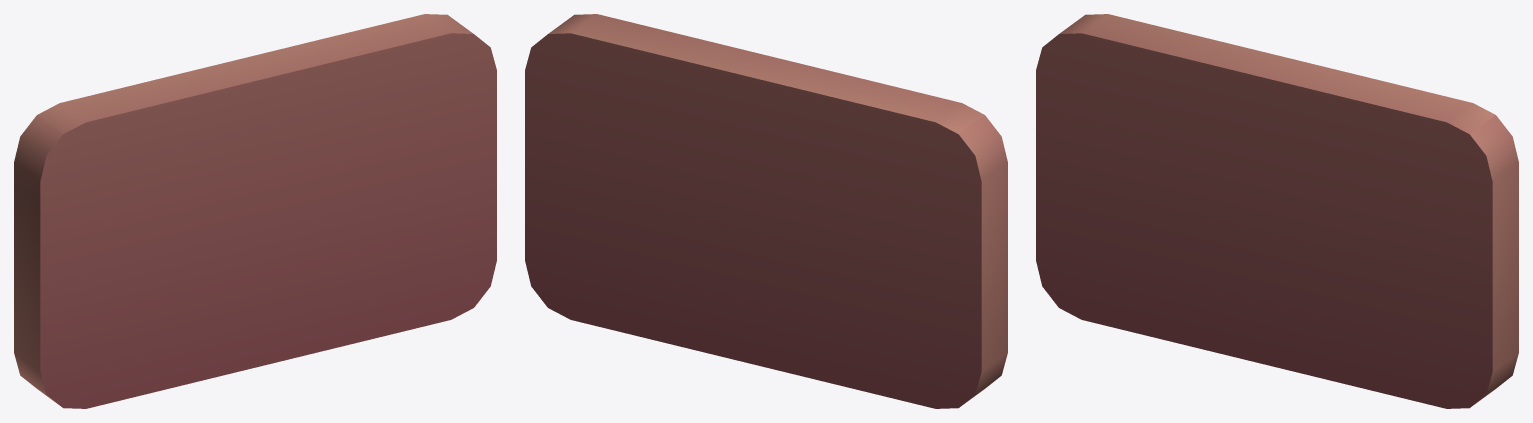
The model's file is Sign_Wood_02.fbx.
The picture shows the model from 3 angles, left to right: view 1: azimuth 30°, elevation 25°; view 2: azimuth 150°, elevation 25°; view 3: azimuth 330°, elevation 25°; orthographic projection.
Visible parts, largest first — view 1: Sign_Wood_02; view 2: Sign_Wood_02; view 3: Sign_Wood_02.
Boxes of the visible parts, x1,y1,x2,y2 form: Sign_Wood_02: (14, 14, 496, 408); Sign_Wood_02: (525, 14, 1007, 408); Sign_Wood_02: (1036, 14, 1518, 408).
Bounding box in the file's own units: 100 × 60 × 10.
